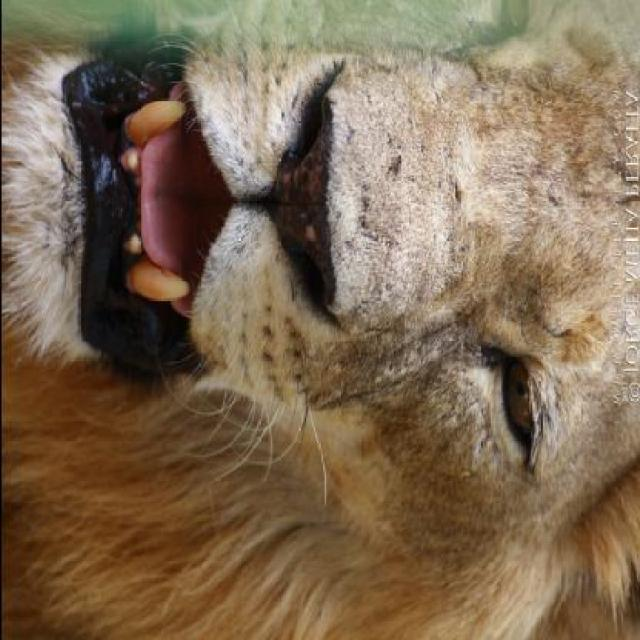Lion: (2, 2, 629, 626)
